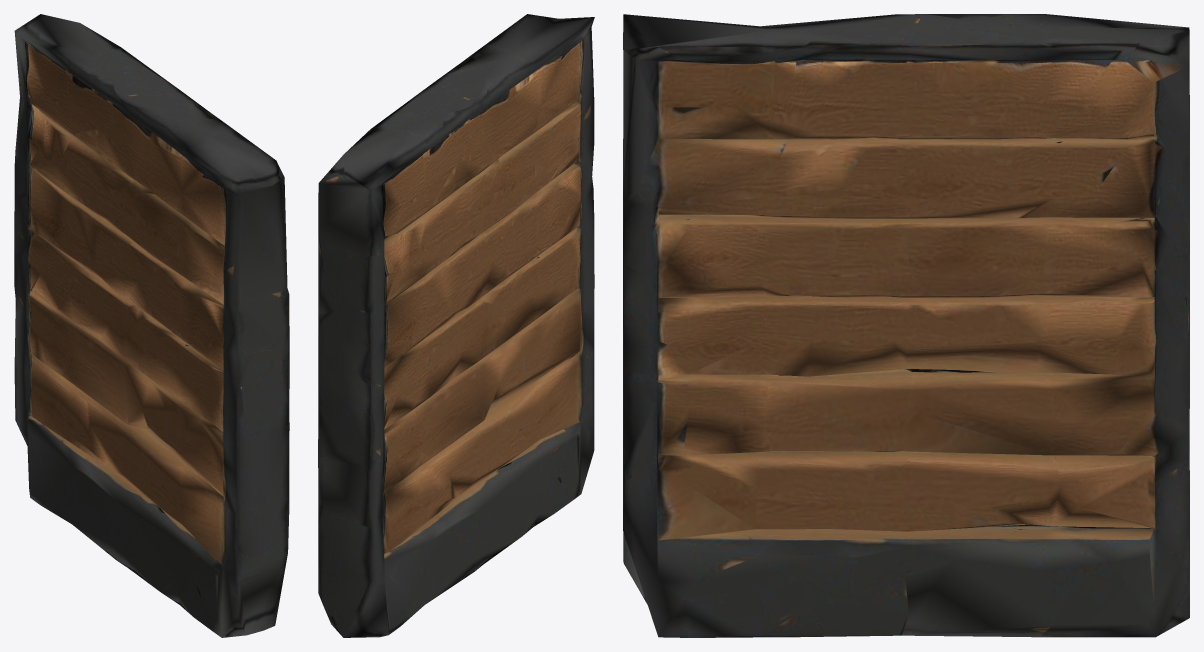
Rendered from pnl_slab_lod1.glb.
3 renders of one model, left to right at view 1: azimuth 30°, elevation 25°; view 2: azimuth 150°, elevation 25°; view 3: azimuth 270°, elevation 25°, orthographic. The views are drawn at different scales.
Parts seen in each view (by area): view 1: tripo_node_95089fe0-1304-4773-88dd-1d3d346eb88b; view 2: tripo_node_95089fe0-1304-4773-88dd-1d3d346eb88b; view 3: tripo_node_95089fe0-1304-4773-88dd-1d3d346eb88b.
Part boxes in pixels (x1=…): tripo_node_95089fe0-1304-4773-88dd-1d3d346eb88b: x1=14, y1=14, x2=289, y2=637; tripo_node_95089fe0-1304-4773-88dd-1d3d346eb88b: x1=318, y1=14, x2=594, y2=637; tripo_node_95089fe0-1304-4773-88dd-1d3d346eb88b: x1=623, y1=14, x2=1189, y2=637.
Size of the model in its own units: 0.2285 by 1.8 by 1.55.
Materials: 1 (1 with a texture image).
